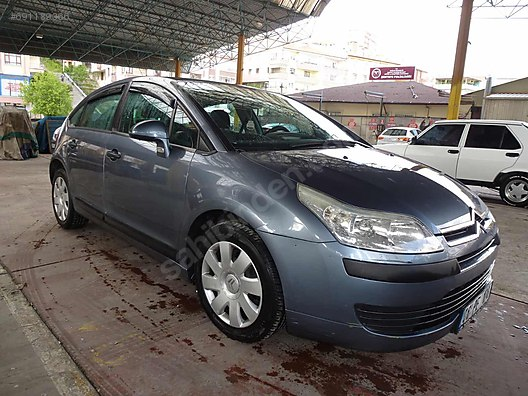citroen: (47, 70, 508, 363)
